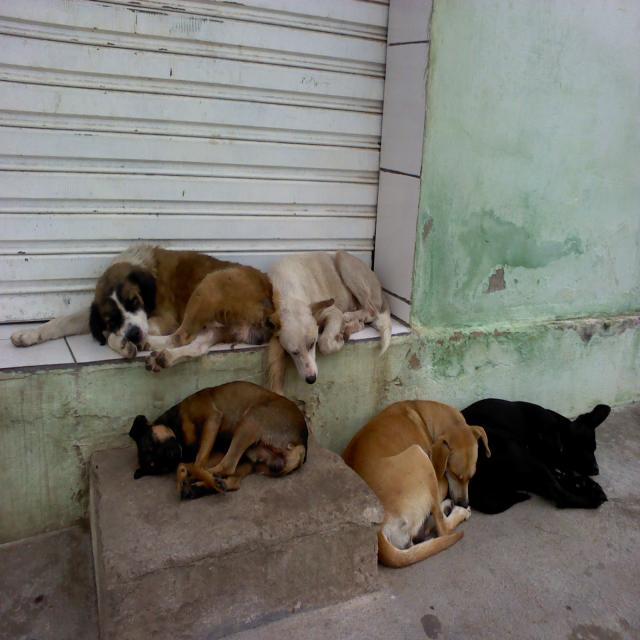laying down: (338, 396, 493, 570), (87, 242, 277, 374), (127, 377, 313, 504), (261, 244, 395, 388), (476, 393, 614, 522)
